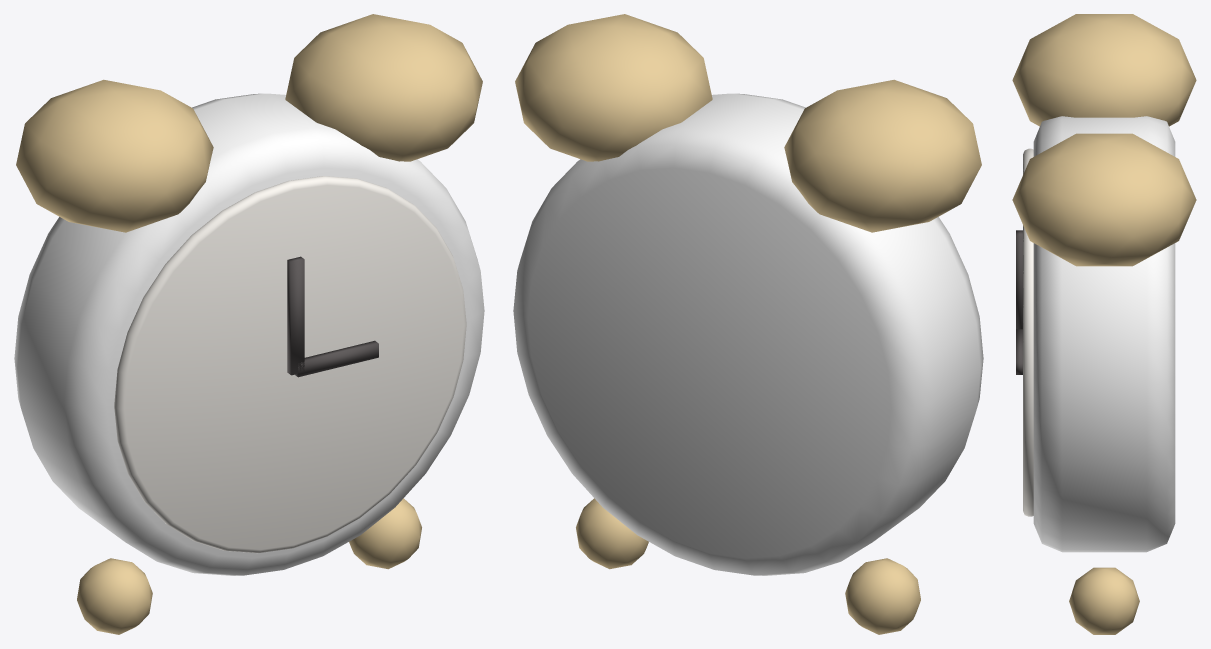
File: alarm_clock_01.glb
The picture shows the model from 3 angles, left to right: view 1: azimuth 30°, elevation 25°; view 2: azimuth 150°, elevation 25°; view 3: azimuth 270°, elevation 25°; orthographic projection. The views are drawn at different scales.
Parts seen in each view (by area): view 1: alarm_clock_01_face, alarm_clock_01_body, alarm_clock_01_bell, alarm_clock_01_bell_1, alarm_clock_01_foot, alarm_clock_01_foot_1, alarm_clock_01_hand, alarm_clock_01_hand_1; view 2: alarm_clock_01_body, alarm_clock_01_bell, alarm_clock_01_bell_1, alarm_clock_01_foot, alarm_clock_01_foot_1; view 3: alarm_clock_01_body, alarm_clock_01_bell_1, alarm_clock_01_bell, alarm_clock_01_foot_1, alarm_clock_01_face, alarm_clock_01_hand, alarm_clock_01_hand_1.
Boxes of the visible parts, x1,y1,x2,y2 form: alarm_clock_01_face: (114, 176, 466, 553); alarm_clock_01_body: (14, 93, 484, 575); alarm_clock_01_bell: (16, 79, 213, 232); alarm_clock_01_bell_1: (285, 14, 482, 161); alarm_clock_01_foot: (77, 558, 152, 634); alarm_clock_01_foot_1: (349, 498, 421, 569); alarm_clock_01_hand: (287, 256, 304, 375); alarm_clock_01_hand_1: (295, 340, 378, 377); alarm_clock_01_body: (513, 93, 983, 575); alarm_clock_01_bell: (784, 79, 981, 232); alarm_clock_01_bell_1: (515, 14, 712, 161); alarm_clock_01_foot: (845, 558, 920, 634); alarm_clock_01_foot_1: (576, 498, 648, 569); alarm_clock_01_body: (1033, 116, 1175, 552); alarm_clock_01_bell_1: (1012, 133, 1196, 266); alarm_clock_01_bell: (1012, 14, 1196, 126); alarm_clock_01_foot_1: (1069, 567, 1139, 634); alarm_clock_01_face: (1023, 148, 1033, 516); alarm_clock_01_hand: (1016, 230, 1022, 329); alarm_clock_01_hand_1: (1016, 329, 1022, 374).
Size of the model in its own units: 0.1295 by 0.1532 by 0.052.
